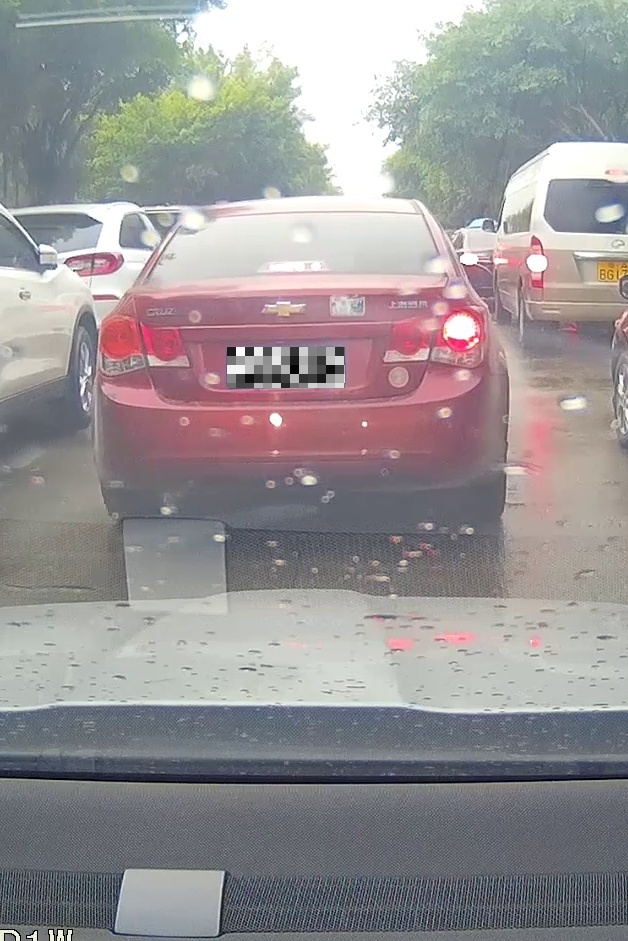L_light: (96, 313, 192, 378)
R_light: (381, 305, 489, 369)
T_light: (257, 260, 334, 273)
day-right: (91, 196, 509, 521)
plate_1: (227, 347, 345, 388)
